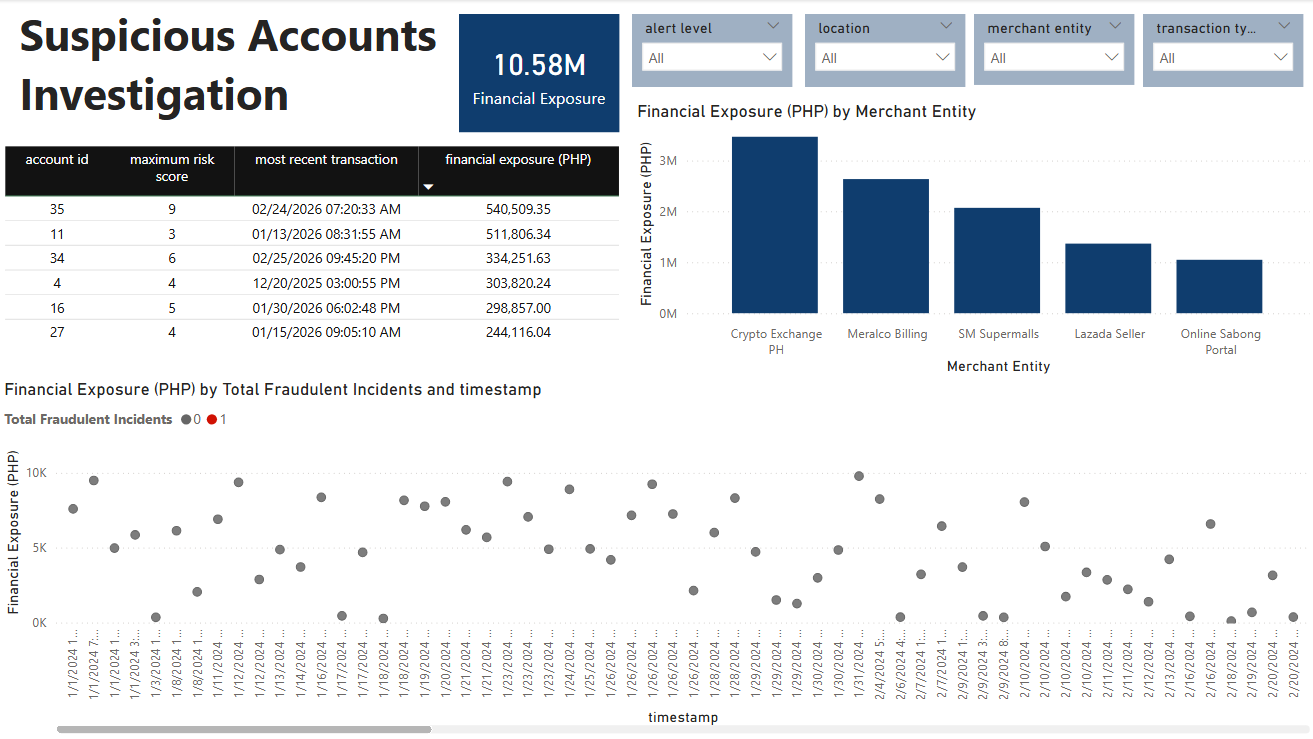

What the dashboard file says about the page in this screenshot:
{"tool":"powerbi","page":{"name":"Suspicious Accounts Investigation","canvas":[1280,720],"ordinal":2},"visuals":[{"type":"slicer","fields":{"Values":["dim_merchant.merchant_name"]},"box":[948.2,14.1,156.5,69.4],"z":0},{"type":"slicer","fields":{"Values":["dim_transaction_types.type_name"]},"box":[1112.9,14.1,156.5,70.6],"z":1000},{"type":"slicer","fields":{"Values":["v_fraud_alerts.alert_level"]},"box":[615.3,14.1,156.5,70.6],"z":2000},{"type":"tableEx","fields":{"Values":["dim_customers.account_id","Max(v_fraud_alerts.risk_score)","fact_transactions.LastTransaction","Sum(fact_transactions.amount)"]},"box":[0,138.1,615.7,221.8],"z":3000},{"type":"slicer","fields":{"Values":["fact_transactions.location_city"]},"box":[783.5,14.1,156.5,70.6],"z":4000},{"type":"columnChart","fields":{"Category":["dim_merchant.merchant_name"],"Y":["Sum(fact_transactions.amount)"]},"box":[615.7,99.2,664.3,270.4],"z":5000},{"type":"card","fields":{"Values":["Sum(fact_transactions.amount)"]},"box":[447.4,14.6,155.6,114.8],"z":6000},{"type":"textbox","box":[14.6,0,421.2,129.4],"z":7000},{"type":"scatterChart","fields":{"Y":["fact_transactions.amount"],"Series":["fact_transactions.fraud_flag"],"X":["fact_transactions.timestamp"]},"box":[0,369.6,1280,350.2],"z":8000}]}

Visuals, with their boxes in screenshot pixels (x1, y1, x2, y2), scaled from the page's 1280x720 canvas onto the 1313x739 screenshot:
slicer - dim_merchant.merchant_name: l=973, t=14, r=1133, b=86
slicer - dim_transaction_types.type_name: l=1142, t=14, r=1302, b=87
slicer - v_fraud_alerts.alert_level: l=631, t=14, r=792, b=87
tableEx - dim_customers.account_id x Max(v_fraud_alerts.risk_score): l=0, t=142, r=632, b=369
slicer - fact_transactions.location_city: l=804, t=14, r=964, b=87
columnChart - dim_merchant.merchant_name x Sum(fact_transactions.amount): l=632, t=102, r=1312, b=379
card - Sum(fact_transactions.amount): l=459, t=15, r=619, b=133
textbox: l=15, t=0, r=447, b=133
scatterChart - fact_transactions.amount x fact_transactions.fraud_flag: l=0, t=379, r=1312, b=738
